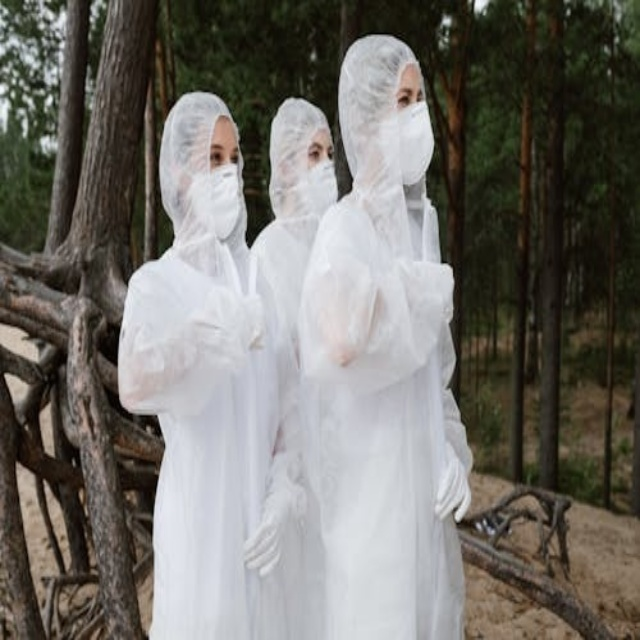Guantes: (241, 444, 301, 582), (436, 434, 474, 530)
Mascara: (183, 164, 243, 243), (384, 102, 435, 188), (280, 158, 338, 225)
Sin_gafas: (206, 140, 243, 165), (307, 136, 334, 160), (396, 83, 428, 102)
